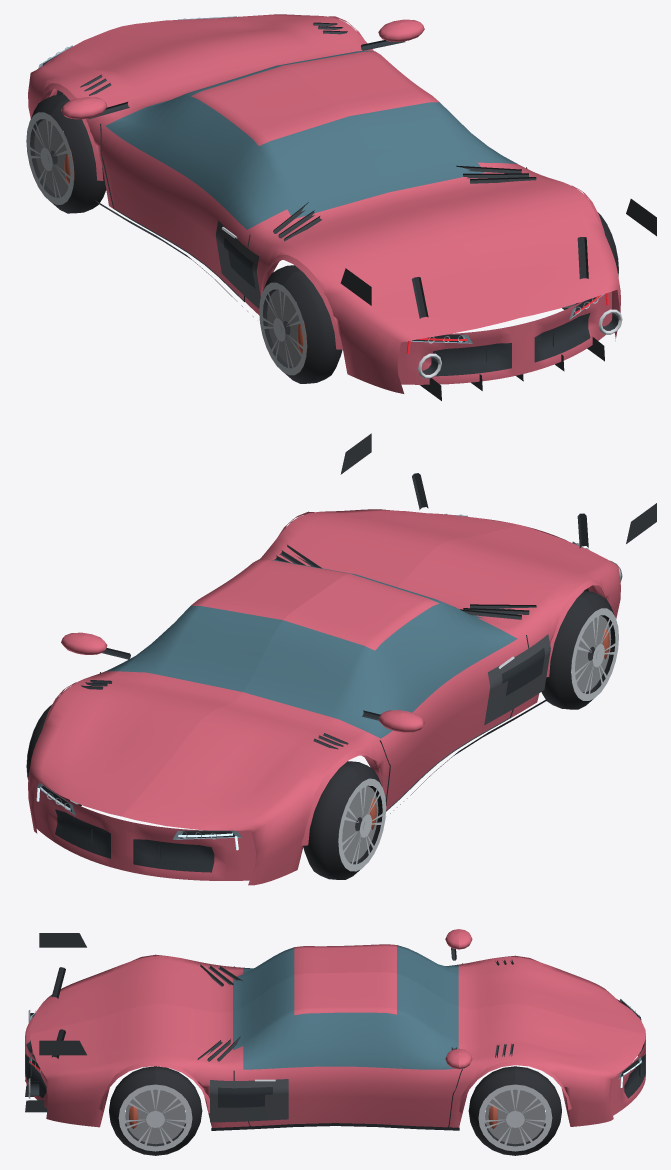
The model's file is inferno_r_low.glb.
The picture shows the model from 3 angles, top to bottom: view 1: azimuth 30°, elevation 25°; view 2: azimuth 150°, elevation 25°; view 3: azimuth 270°, elevation 25°; orthographic projection. The views are drawn at different scales.
Visible parts, largest first — view 1: Body, Wheel_2, Wheel_0; view 2: Body, Wheel_0, Wheel_2; view 3: Body, Wheel_1, Wheel_3.
Part boxes in pixels (x1,y1,x2,y2): Body: (28,14,656,400); Wheel_2: (259,265,342,383); Wheel_0: (26,94,106,213); Body: (28,433,656,885); Wheel_0: (303,761,386,879); Wheel_2: (541,591,618,709); Body: (25,929,645,1130); Wheel_1: (468,1066,561,1155); Wheel_3: (109,1066,202,1155).
Size of the model in its own units: 2.48 by 1.1 by 4.95.
